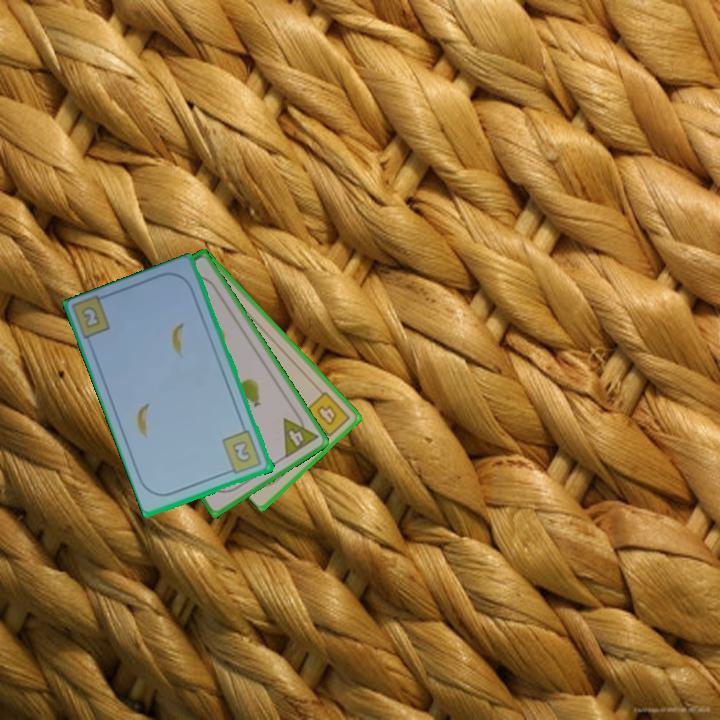2b: (219, 427, 265, 477), (78, 303, 104, 331)
4b: (301, 388, 353, 443)
4p: (280, 408, 321, 461)
